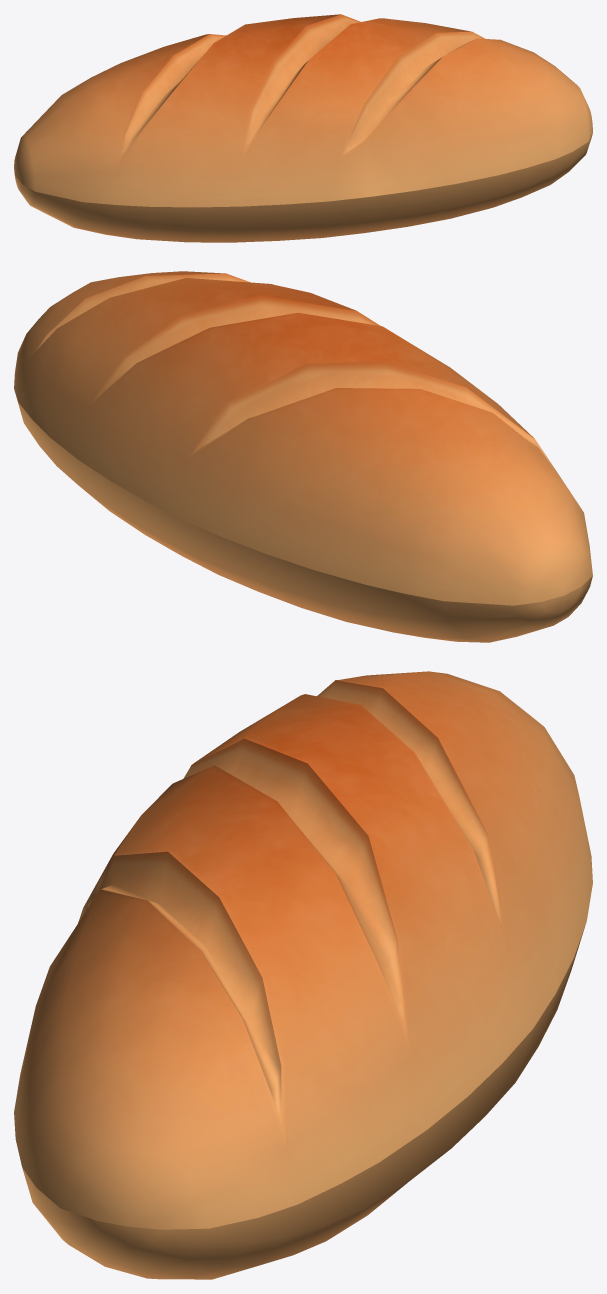
File: French Bread.fbx
3 views of the same model, one above another, from view 1: azimuth 30°, elevation 25°; view 2: azimuth 150°, elevation 25°; view 3: azimuth 270°, elevation 25° (orthographic). The views are drawn at different scales.
Parts seen in each view (by area): view 1: FrenchBread_1; view 2: FrenchBread_1; view 3: FrenchBread_1.
Part boxes in pixels (x1,y1,x2,y2): FrenchBread_1: [14, 14, 592, 242]; FrenchBread_1: [14, 271, 592, 642]; FrenchBread_1: [14, 671, 592, 1279].
Size of the model in its own units: 68.68 by 26.03 by 36.13.
1 material, 1 textured.
